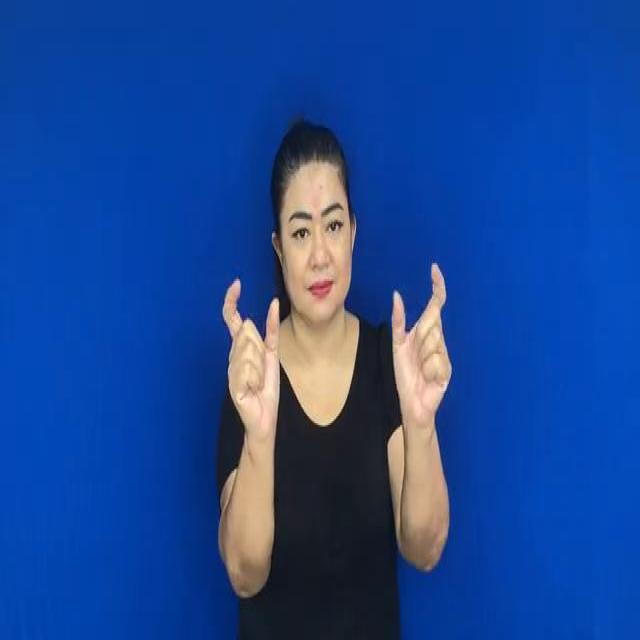crab: (378, 260, 465, 427)
